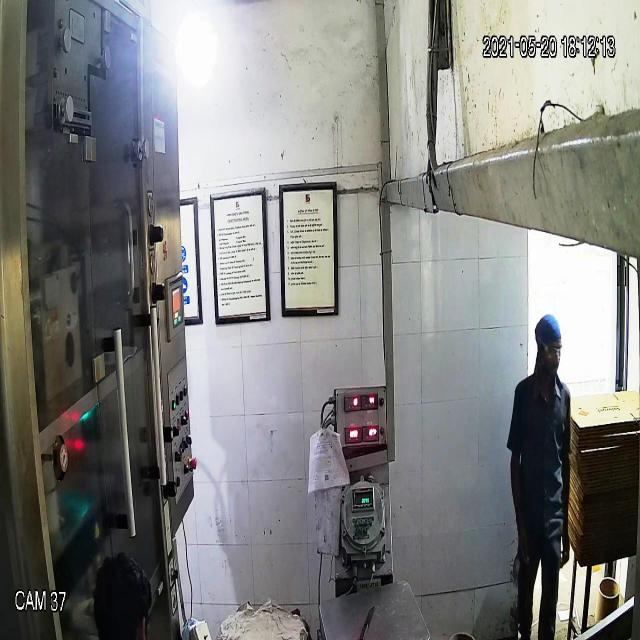glasses: (533, 334, 565, 364)
